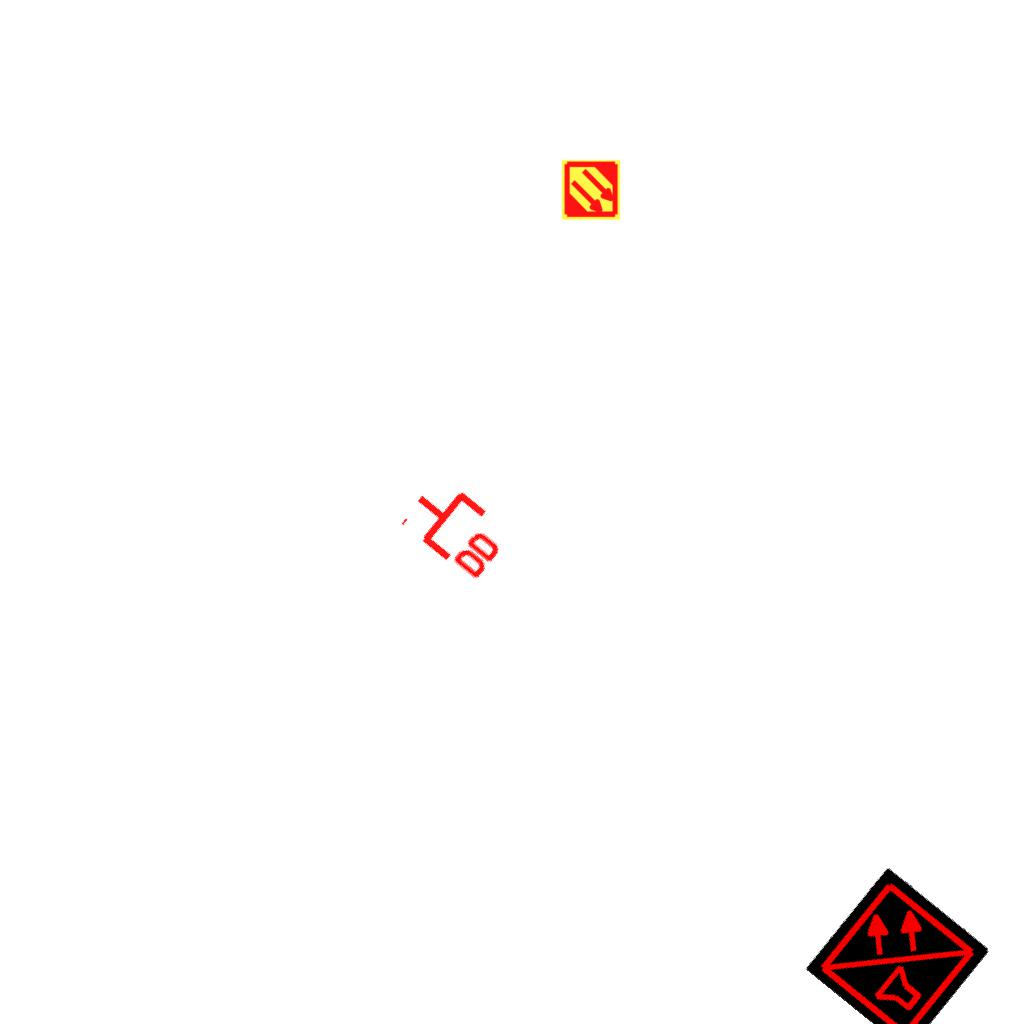ASR_Ansaugrauchmelder: (560, 159, 622, 221)
Datenanschluss_zweifach: (396, 468, 521, 587)
OKW_Multisensormelder_(Kombination_optischer_Rauch-Kahlenmonoxid_Waerme-Melder): (805, 866, 991, 1024)
